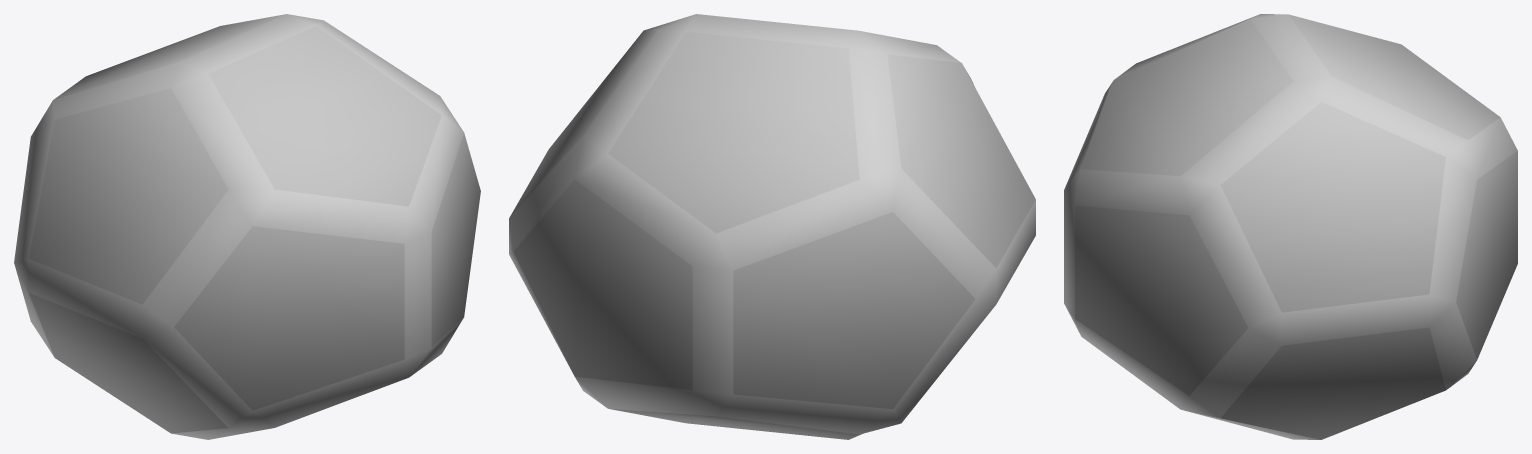
The model's file is stone_2.fbx.
3 views of the same model, side by side, from view 1: azimuth 30°, elevation 25°; view 2: azimuth 150°, elevation 25°; view 3: azimuth 270°, elevation 25° (orthographic). The views are drawn at different scales.
Visible parts, largest first — view 1: stone_2; view 2: stone_2; view 3: stone_2.
Boxes of the visible parts, x1,y1,x2,y2 form: stone_2: [14, 14, 480, 439]; stone_2: [509, 14, 1035, 439]; stone_2: [1064, 14, 1517, 439].
Size of the model in its own units: 64.69 by 52.88 by 60.67.
Materials: 1 (1 with a texture image).
